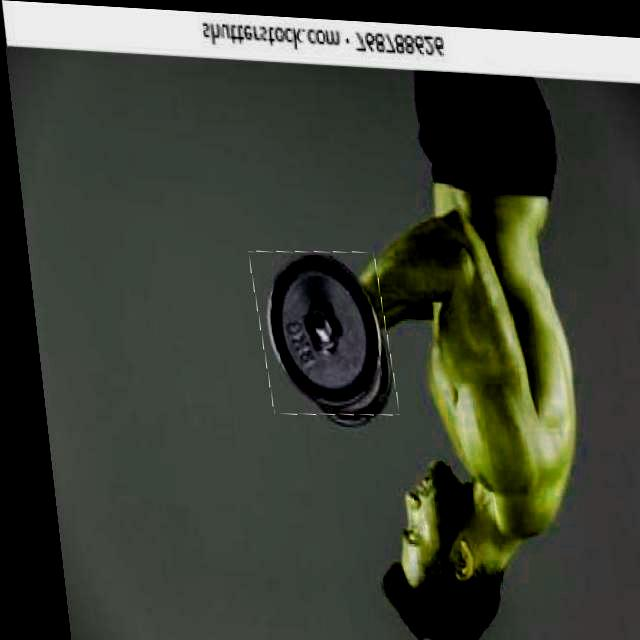barbell: (245, 245, 390, 415)
